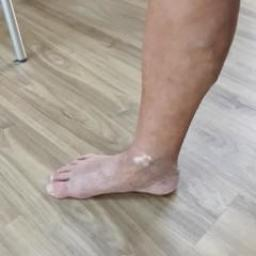Medial View -Right Foot-: (32, 95, 201, 220)
